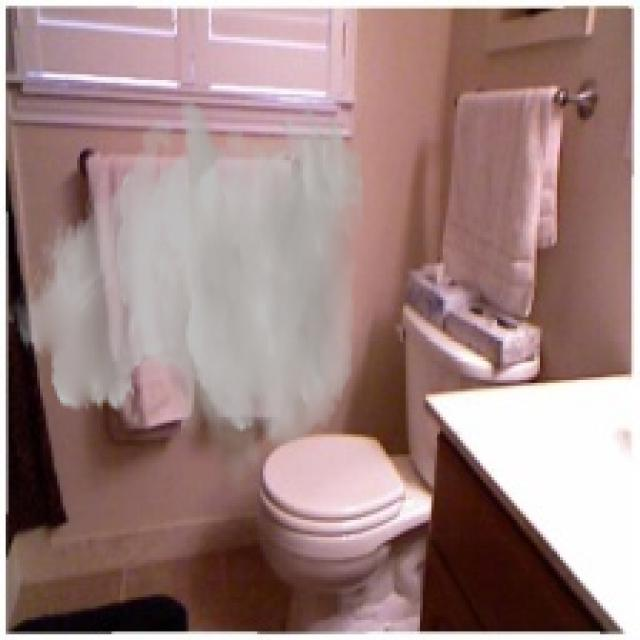smoke: (6, 97, 366, 497)
